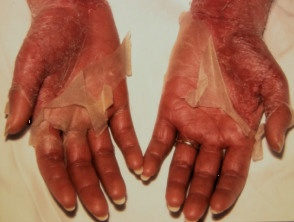SJS-TEN: (147, 0, 294, 177), (0, 0, 144, 175)
